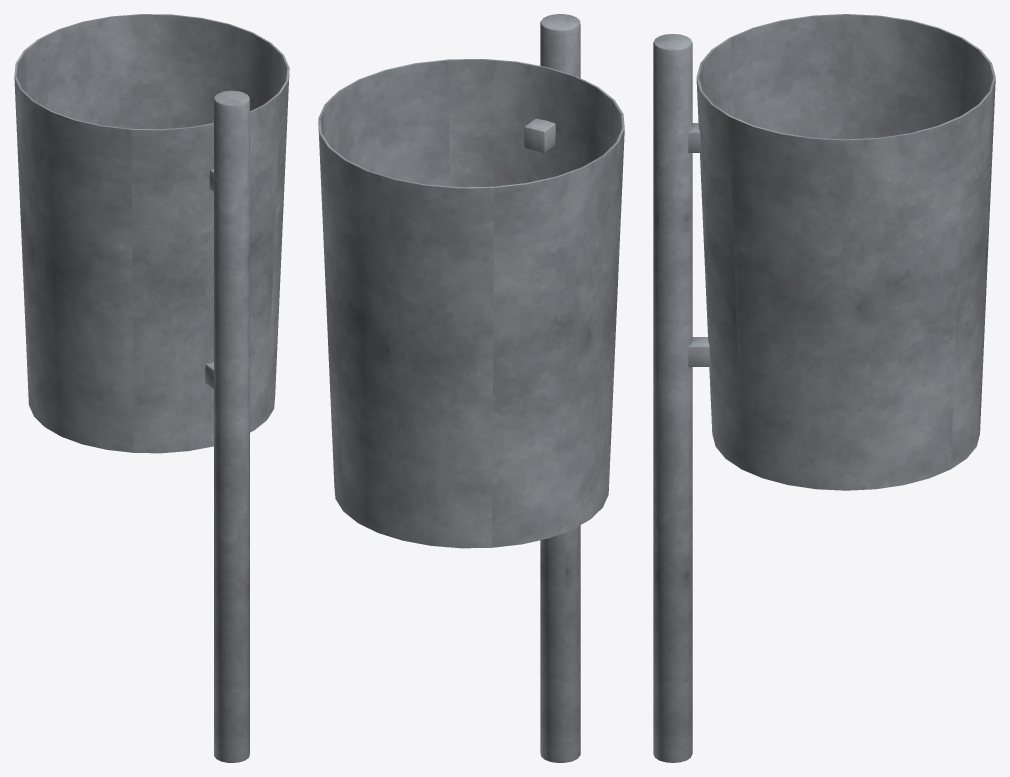
Rendered from PAV-MOB-002_anim.glb.
3 views of the same model, side by side, from view 1: azimuth 30°, elevation 25°; view 2: azimuth 150°, elevation 25°; view 3: azimuth 270°, elevation 25° (orthographic). The views are drawn at different scales.
Visible parts, largest first — view 1: PAV-MOB-002_anim0; view 2: PAV-MOB-002_anim0; view 3: PAV-MOB-002_anim0.
Part boxes in pixels (<box>): PAV-MOB-002_anim0: <box>14,14,289,762</box>; PAV-MOB-002_anim0: <box>318,14,624,762</box>; PAV-MOB-002_anim0: <box>653,14,995,762</box>.
Size of the model in its own units: 0.38 by 1 by 0.435.
Materials: 1 (1 with a texture image).
